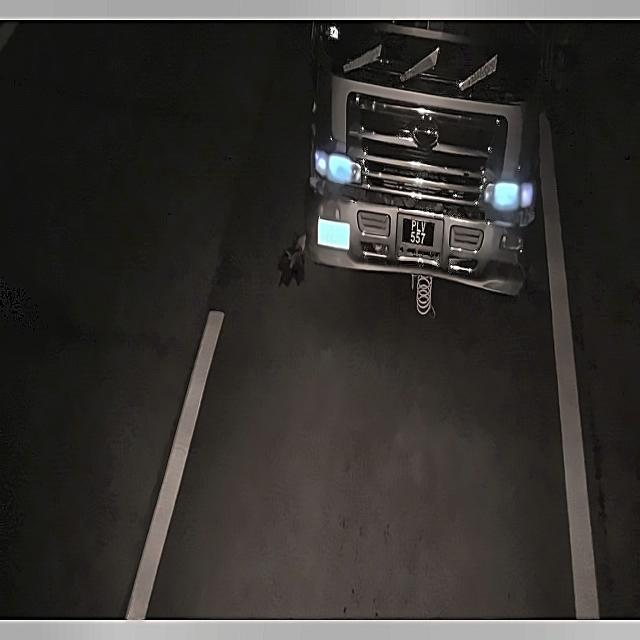car: (394, 212, 446, 268)
